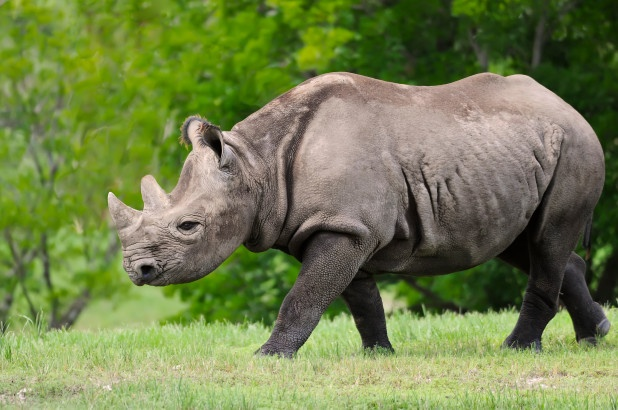rhino: (105, 71, 612, 358)
